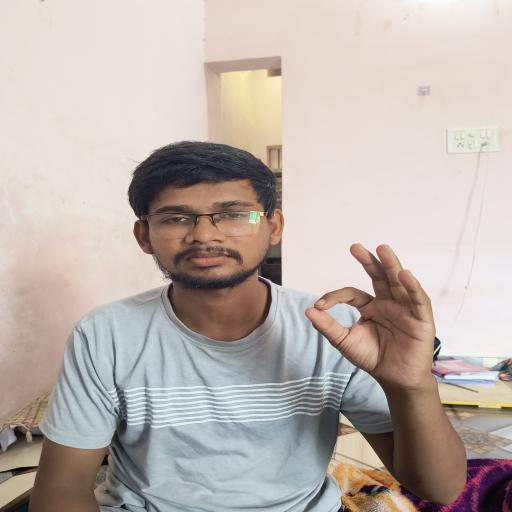Previous: (288, 222, 464, 406)
